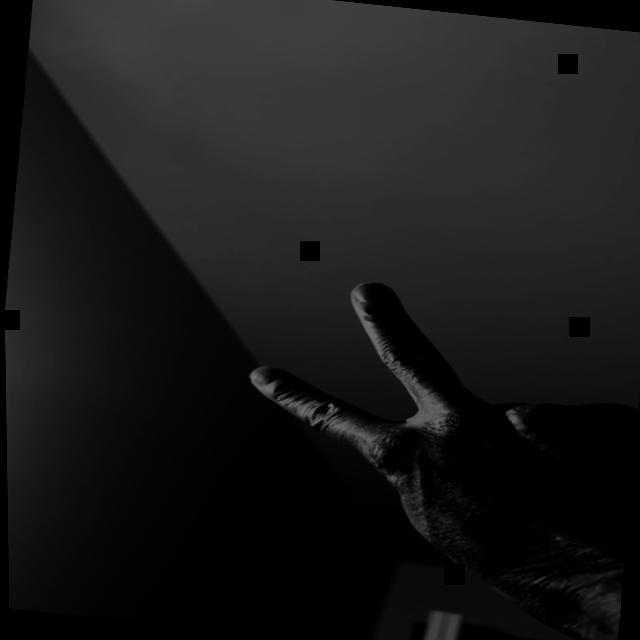Scissors: (216, 268, 640, 640)
